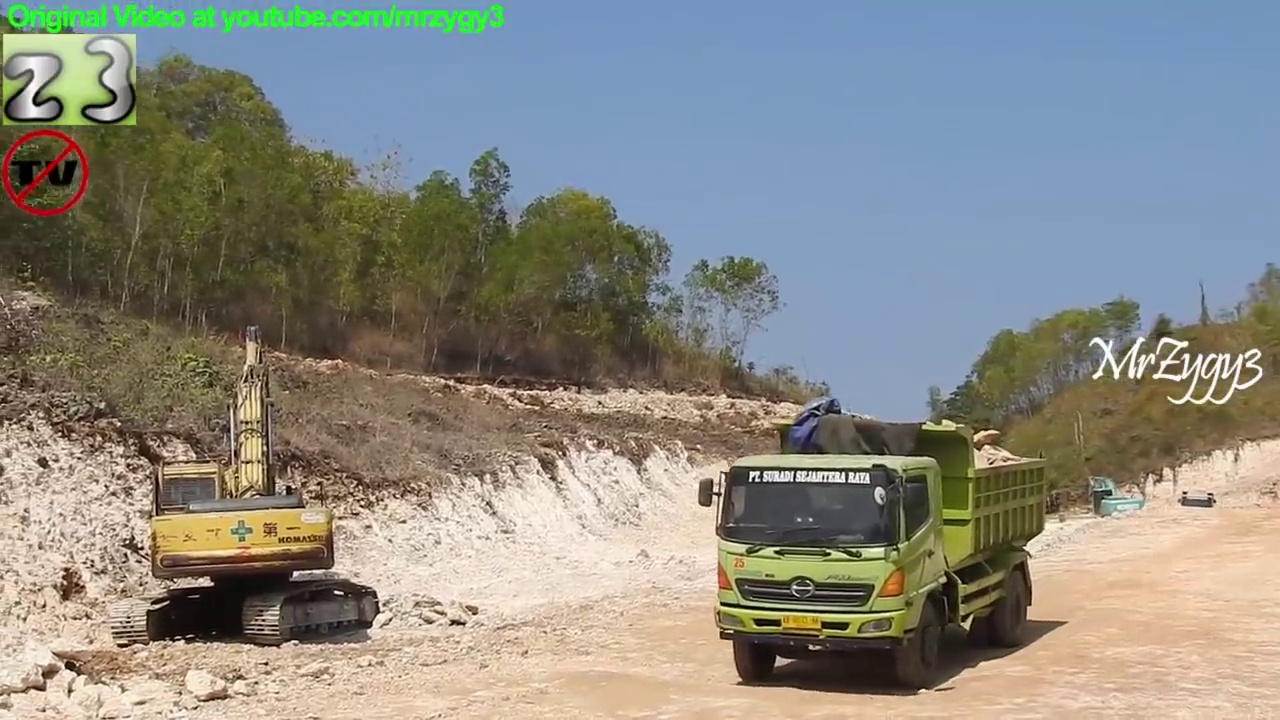excavator: (1081, 468, 1150, 533)
excavator breaker: (105, 316, 386, 657)
truck: (693, 396, 1055, 692), (1175, 485, 1223, 530)
